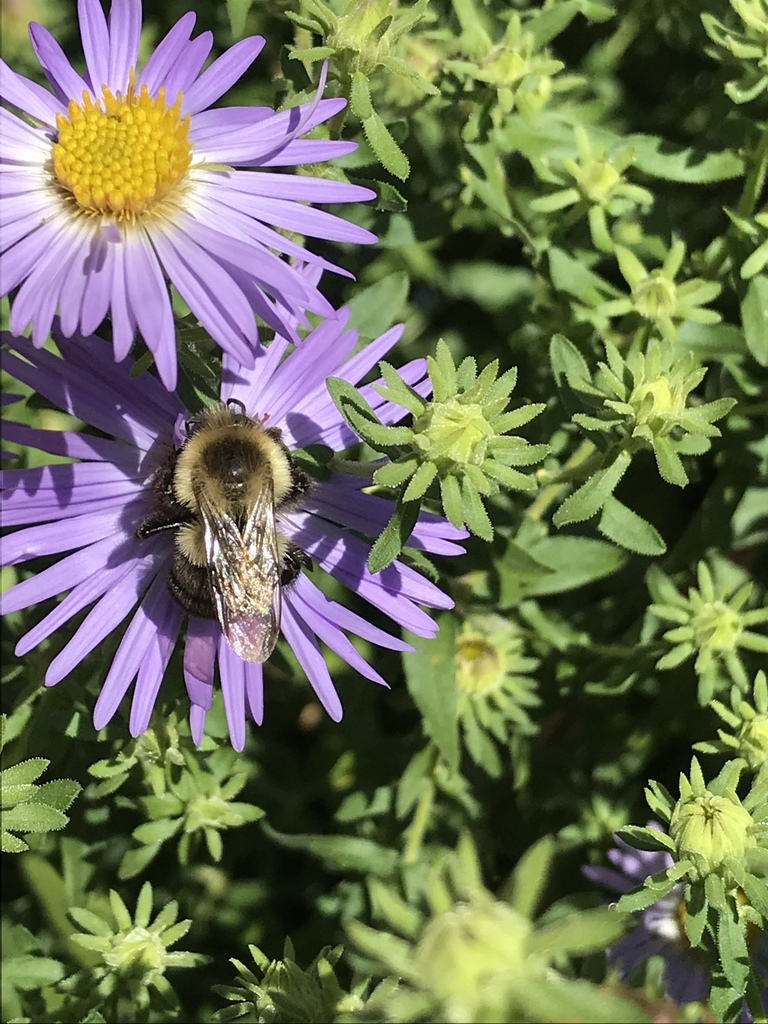bumblebee: (134, 398, 317, 665)
